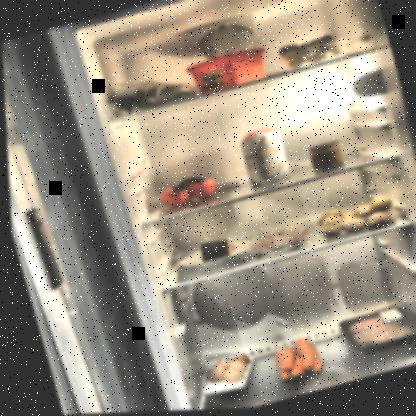butter: (182, 45, 275, 101)
carrot: (266, 337, 323, 386)
cheese: (192, 235, 235, 268)
chicken: (336, 307, 415, 359)
corn: (304, 141, 346, 175)
eggs: (200, 349, 255, 392)
green_beans: (104, 69, 206, 119)
mushrooms: (271, 31, 350, 78)
potato: (309, 195, 398, 244)
shrimp: (246, 223, 311, 261)
tomato: (154, 172, 220, 213)
